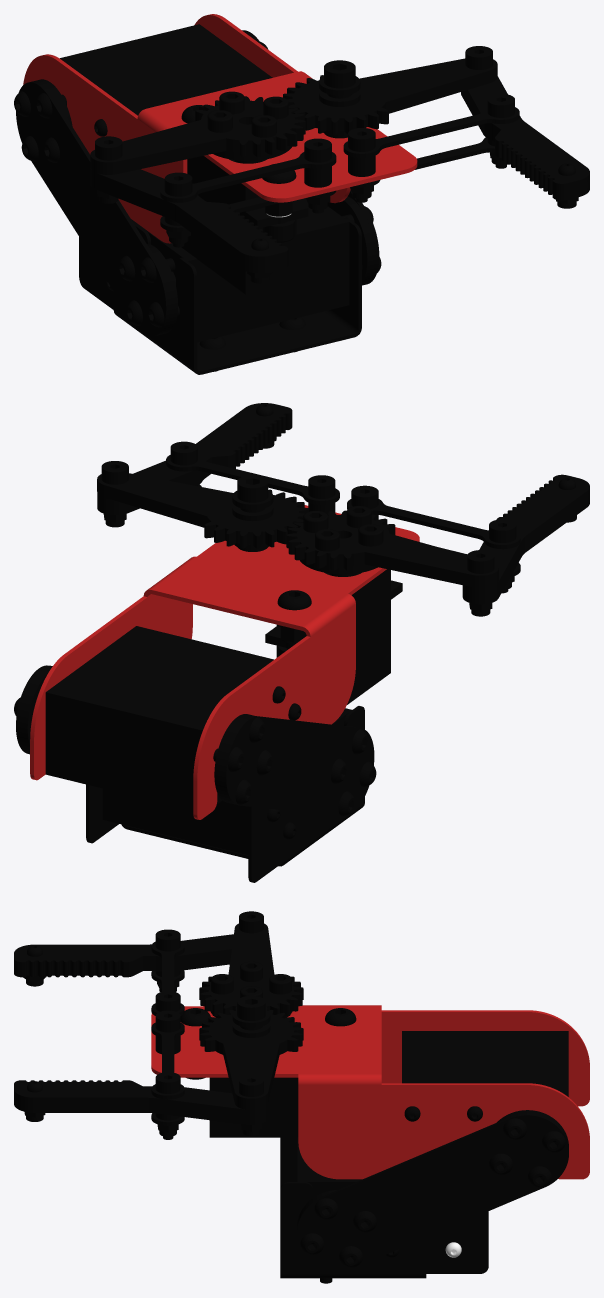
Rendered from LIMO_S2_arm.dae.
3 renders of one model, top to bottom at view 1: azimuth 30°, elevation 25°; view 2: azimuth 150°, elevation 25°; view 3: azimuth 270°, elevation 25°, orthographic. The views are drawn at different scales.
Parts seen in each view (by area): view 1: _г_--__2 (×6), M3______1 (×3), M2______2, _г_--__3 (×2), _г_--__1 (×8), Բ__1 (×4), _̨--__3, Chamfer1 (×5), _̨--__2 (×3), _̨--__1 (×2); view 2: _г_--__2 (×6), M2______2, M3______1 (×2), _г_--__3 (×2), _̨--__3, Բ__1 (×2), _г_--__1 (×4), _̨--__2 (×2); view 3: M2______2, M3______1 (×2), _г_--__2 (×6), _г_--__3 (×2), _г_--__1 (×9), _̨--__3, Բ__1 (×2).
Boxes of the visible parts, bbox=[...] form: _г_--__2 (×6): bbox=[60, 24, 589, 342]; M3______1 (×3): bbox=[16, 30, 379, 374]; M2______2: bbox=[23, 14, 417, 243]; _г_--__3 (×2): bbox=[90, 58, 497, 174]; _г_--__1 (×8): bbox=[95, 46, 514, 247]; Բ__1 (×4): bbox=[160, 107, 519, 231]; _̨--__3: bbox=[181, 156, 308, 294]; Chamfer1 (×5): bbox=[207, 91, 294, 242]; _̨--__2 (×3): bbox=[147, 146, 375, 334]; _̨--__1 (×2): bbox=[304, 155, 375, 187]; _г_--__2 (×6): bbox=[45, 403, 589, 854]; M2______2: bbox=[30, 505, 419, 819]; M3______1 (×2): bbox=[86, 706, 374, 882]; _г_--__3 (×2): bbox=[97, 473, 498, 587]; _̨--__3: bbox=[265, 569, 402, 704]; Բ__1 (×2): bbox=[166, 455, 520, 549]; _г_--__1 (×4): bbox=[170, 441, 516, 593]; _̨--__2 (×2): bbox=[20, 666, 254, 803]; M2______2: bbox=[151, 1005, 589, 1179]; M3______1 (×2): bbox=[280, 1113, 568, 1278]; _г_--__2 (×6): bbox=[14, 934, 568, 1197]; _г_--__3 (×2): bbox=[199, 923, 303, 1109]; _г_--__1 (×9): bbox=[155, 911, 356, 1139]; _̨--__3: bbox=[209, 1077, 298, 1137]; Բ__1 (×2): bbox=[151, 941, 184, 1099].
Size of the model in its own units: 101 by 138 by 74.63.
